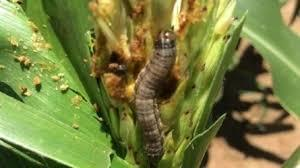fallarmy_worm: (132, 24, 180, 161)
